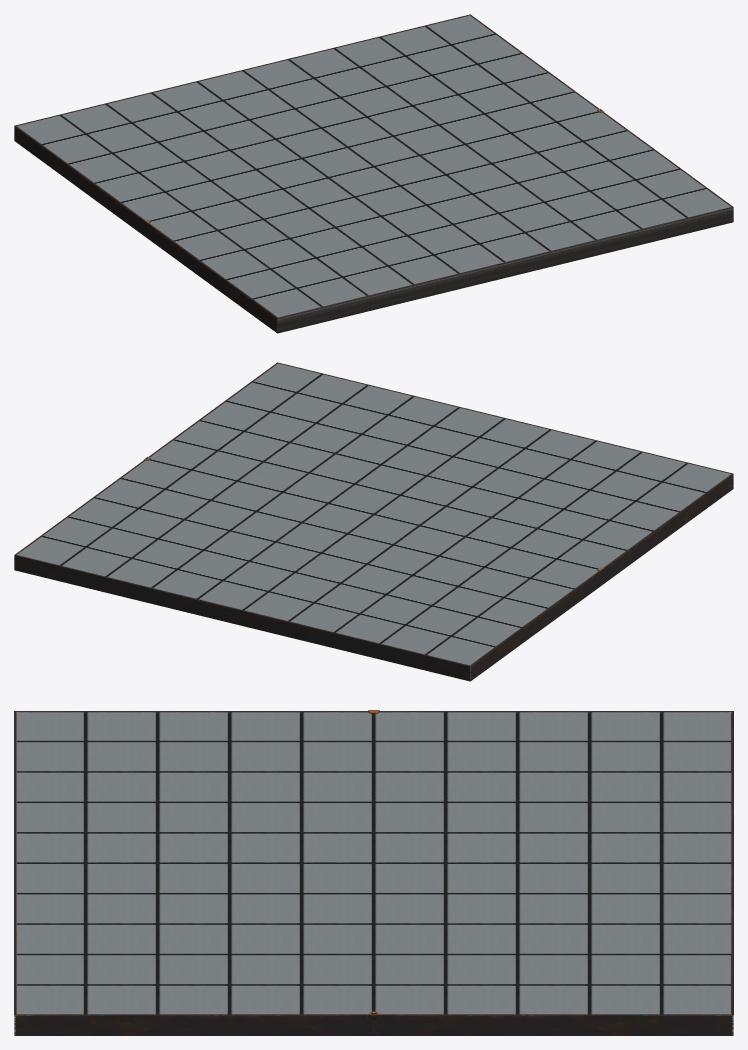
File: discofloor.deployed.glb
3 views of the same model, one above another, from view 1: azimuth 30°, elevation 25°; view 2: azimuth 150°, elevation 25°; view 3: azimuth 270°, elevation 25° (orthographic). The views are drawn at different scales.
Parts seen in each view (by area): view 1: DiscoFloor, dancefloor_frame_LOD0; view 2: DiscoFloor, dancefloor_frame_LOD0; view 3: DiscoFloor, dancefloor_frame_LOD0.
Part boxes in pixels (x1,y1,x2,y2): DiscoFloor: (15, 14, 730, 318); dancefloor_frame_LOD0: (14, 14, 733, 333); DiscoFloor: (17, 362, 732, 666); dancefloor_frame_LOD0: (14, 362, 733, 681); DiscoFloor: (14, 711, 733, 1014); dancefloor_frame_LOD0: (14, 710, 733, 1035).
Bounding box in the file's own units: 2.5 × 0.0827 × 2.5.
Materials: 2 (2 with a texture image).
